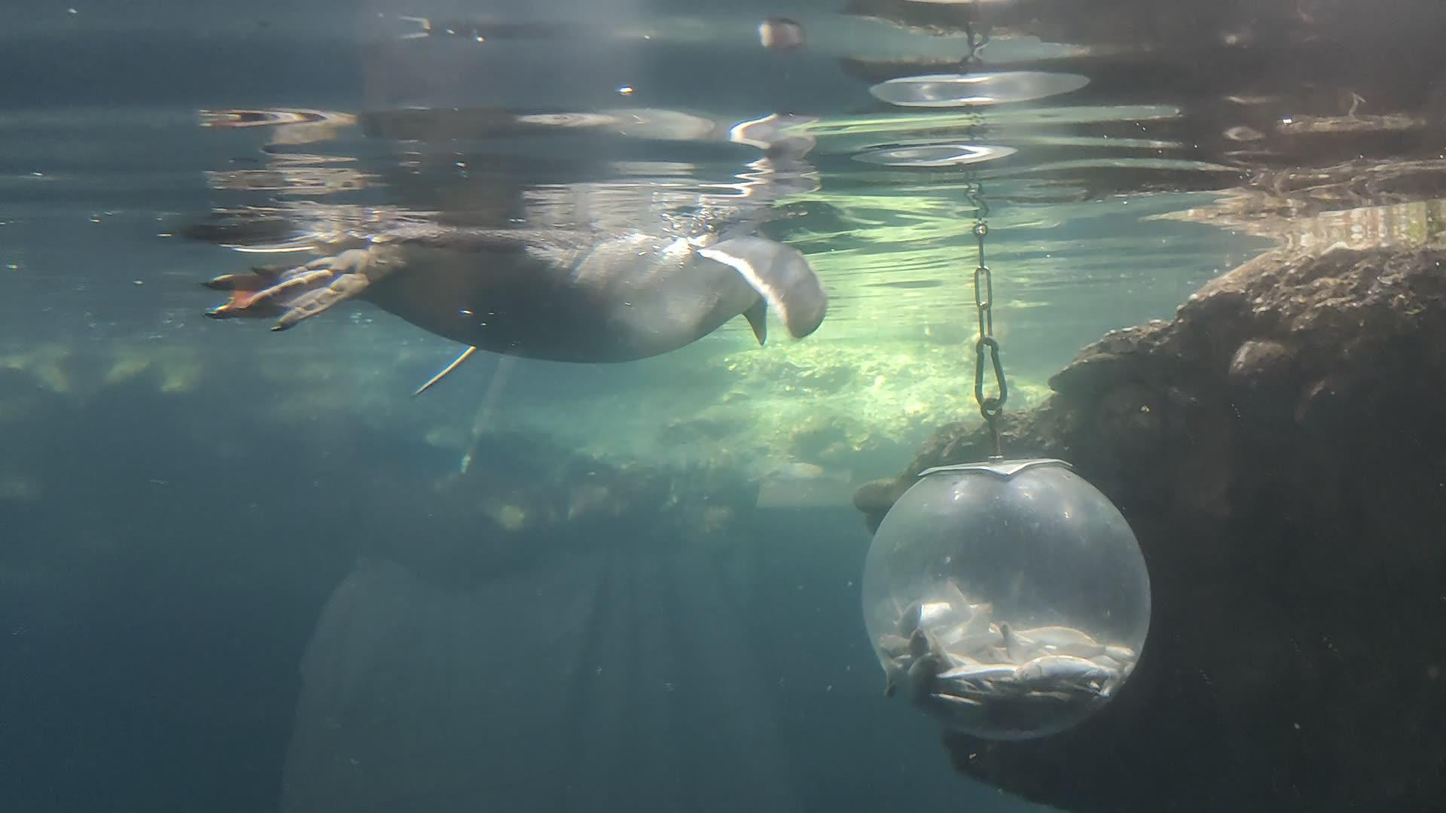apple: (200, 226, 828, 398)
